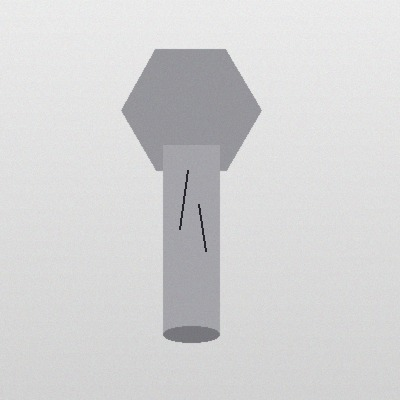scratch: (173, 166, 193, 233), (192, 200, 211, 255)
